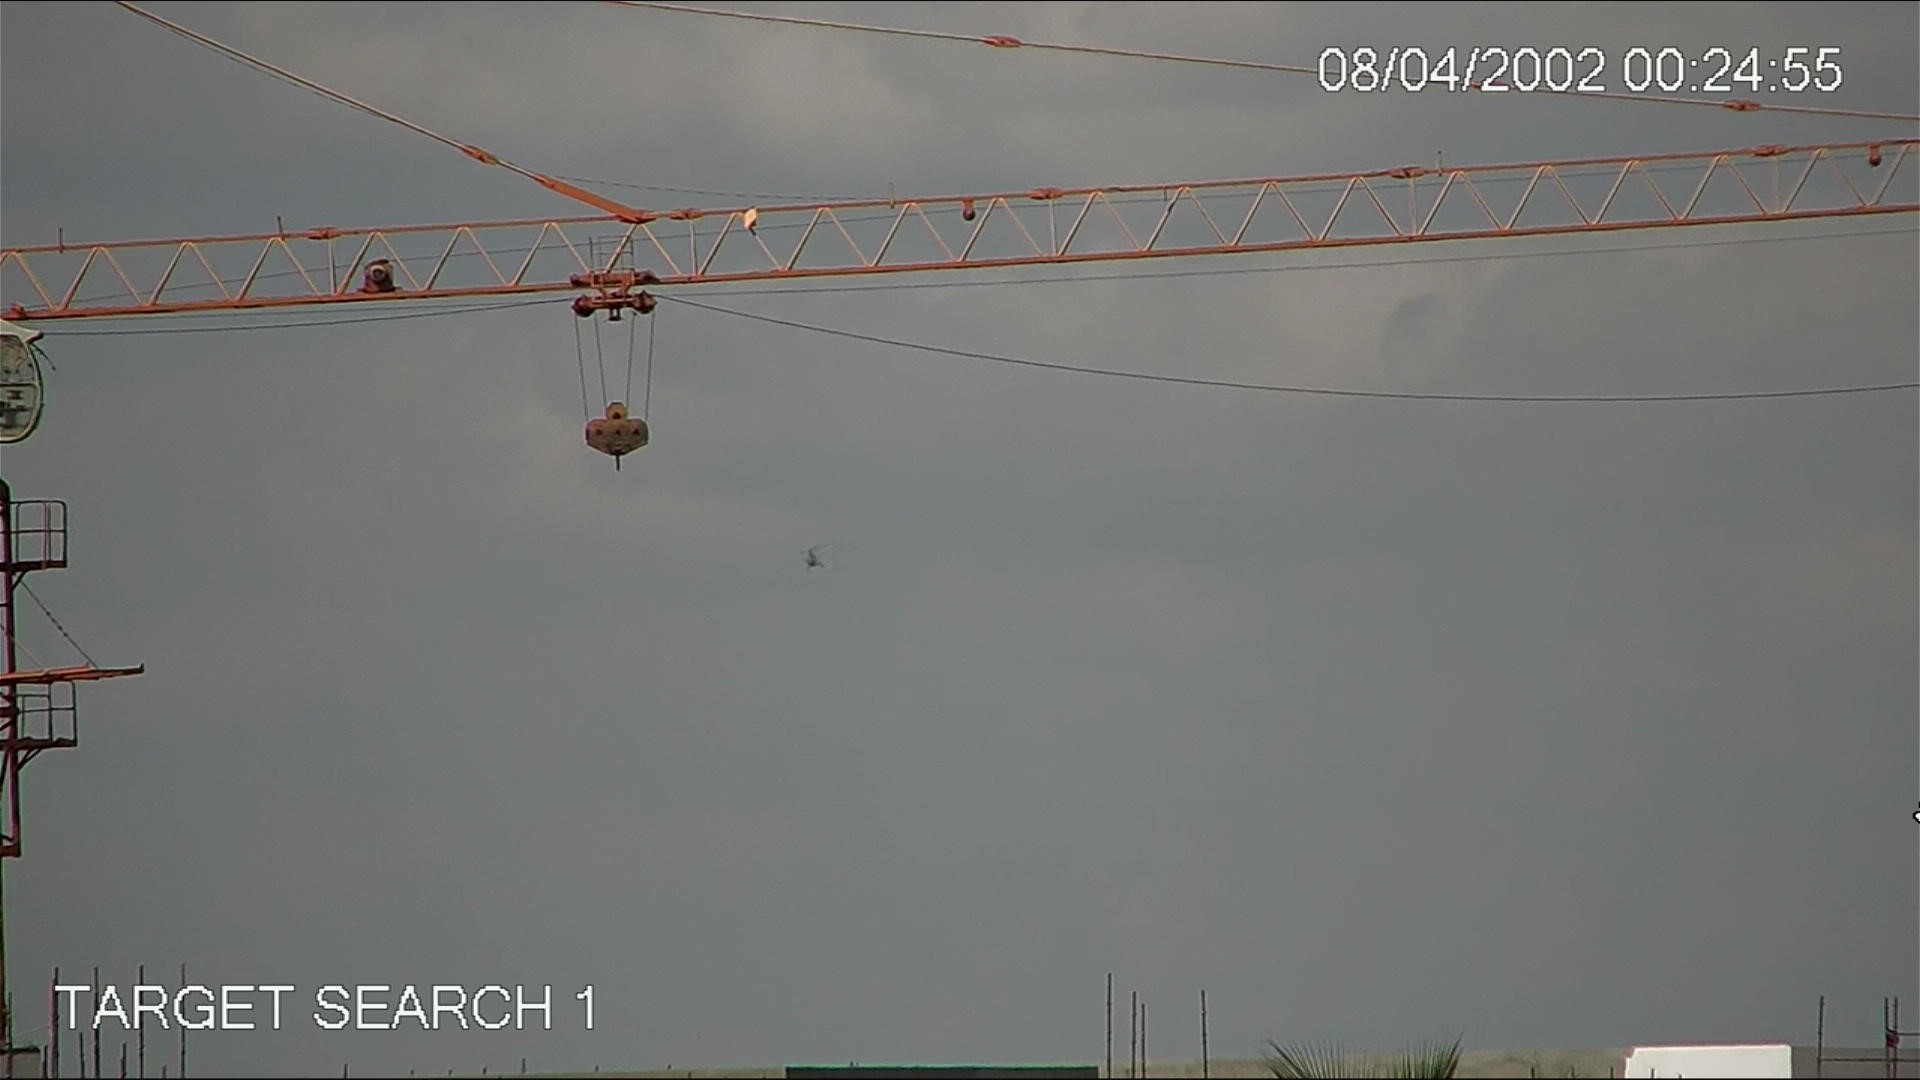SU_30: (796, 542, 832, 576)
